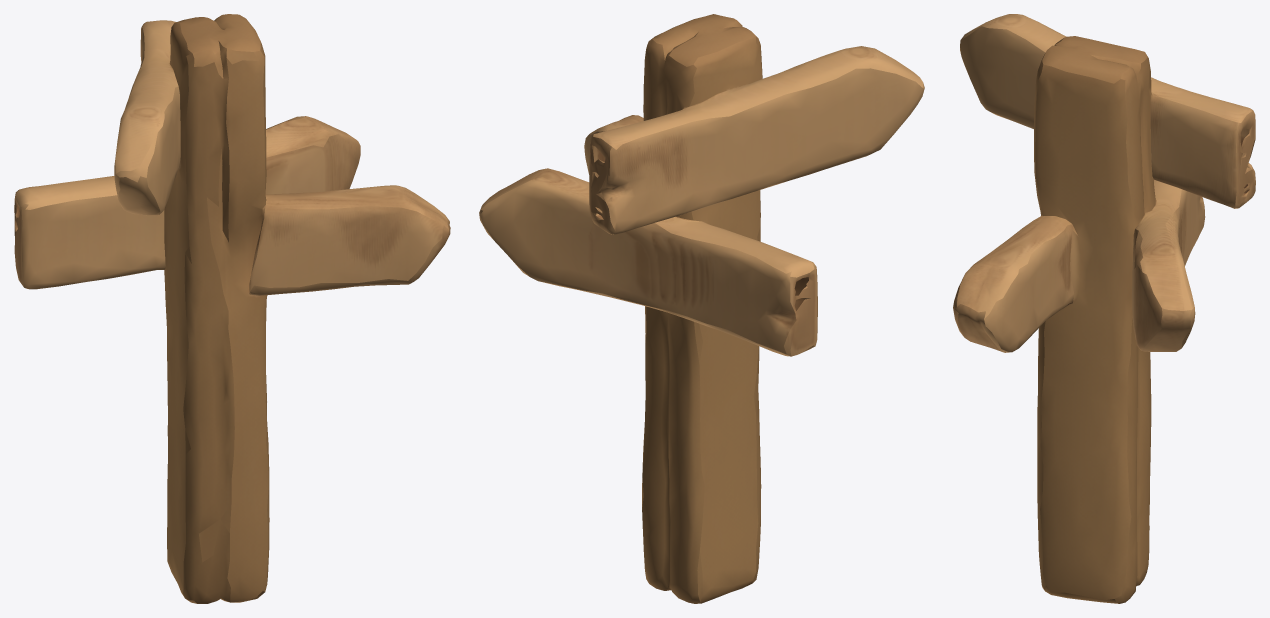
The model's file is ENV_09_SIGN.glb.
3 views of the same model, side by side, from view 1: azimuth 30°, elevation 25°; view 2: azimuth 150°, elevation 25°; view 3: azimuth 270°, elevation 25° (orthographic). The views are drawn at different scales.
Visible parts, largest first — view 1: world; view 2: world; view 3: world.
Part boxes in pixels (x1,y1,x2,y2): world: (14, 14, 450, 603); world: (479, 14, 924, 603); world: (953, 14, 1255, 603).
Bounding box in the file's own units: 0.6416 × 1 × 0.512.
1 material, 1 textured.
